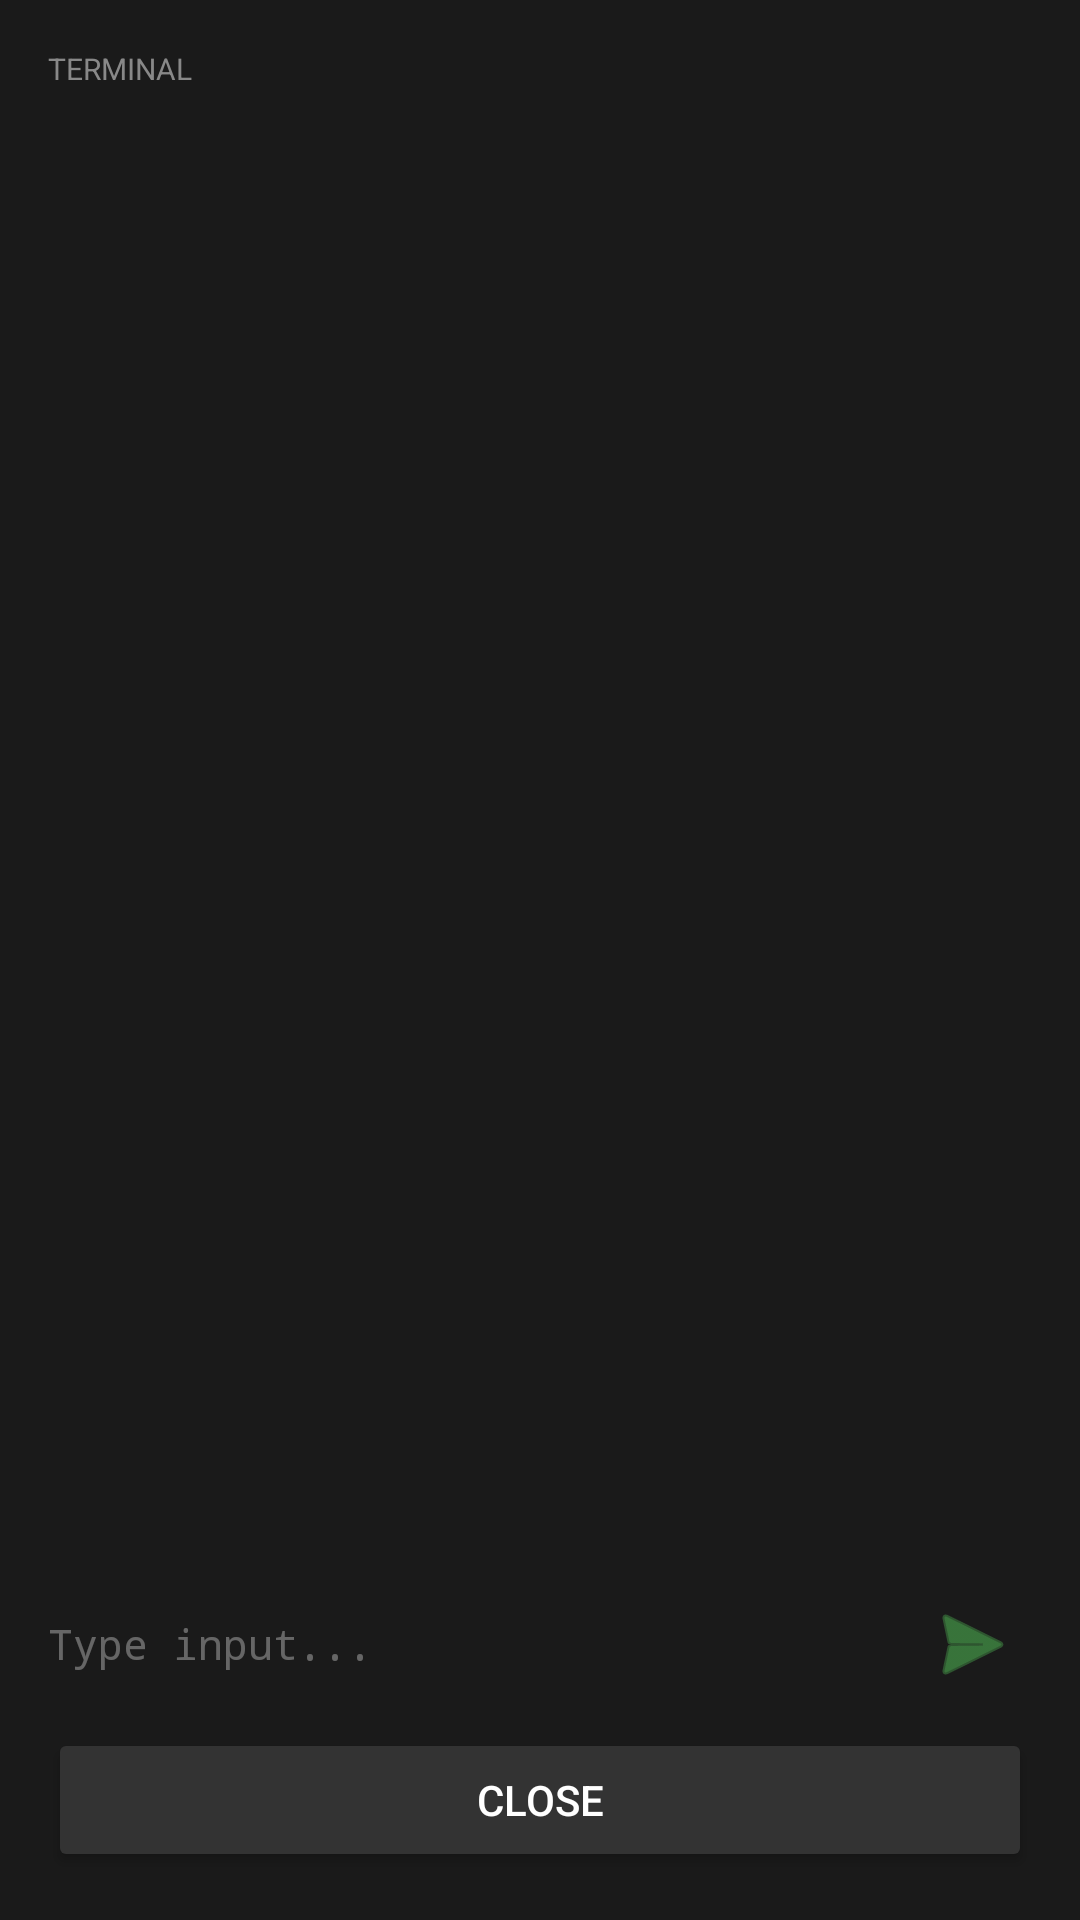

Point at icon controls on the screen. Image size 1080px×1920px, points as (x=x, y=y).
Send: (x=972, y=1644)
